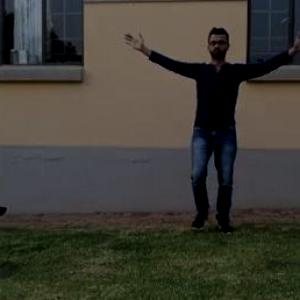takeoff: (122, 22, 299, 236)
